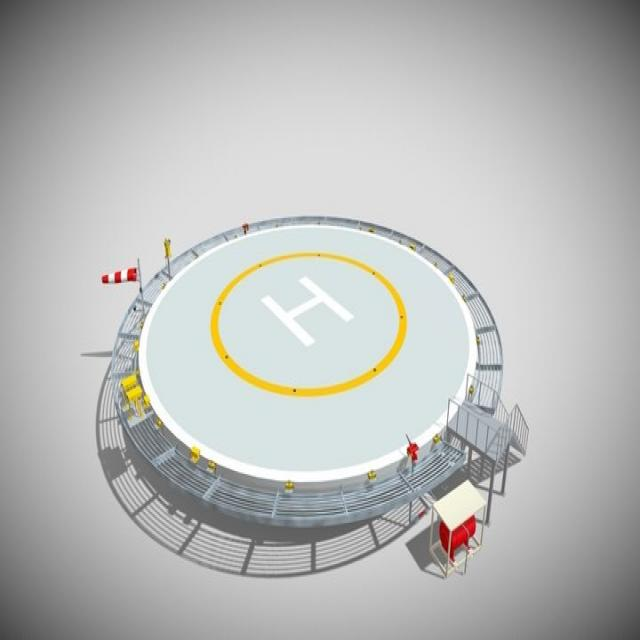helipad: (207, 245, 410, 401)
